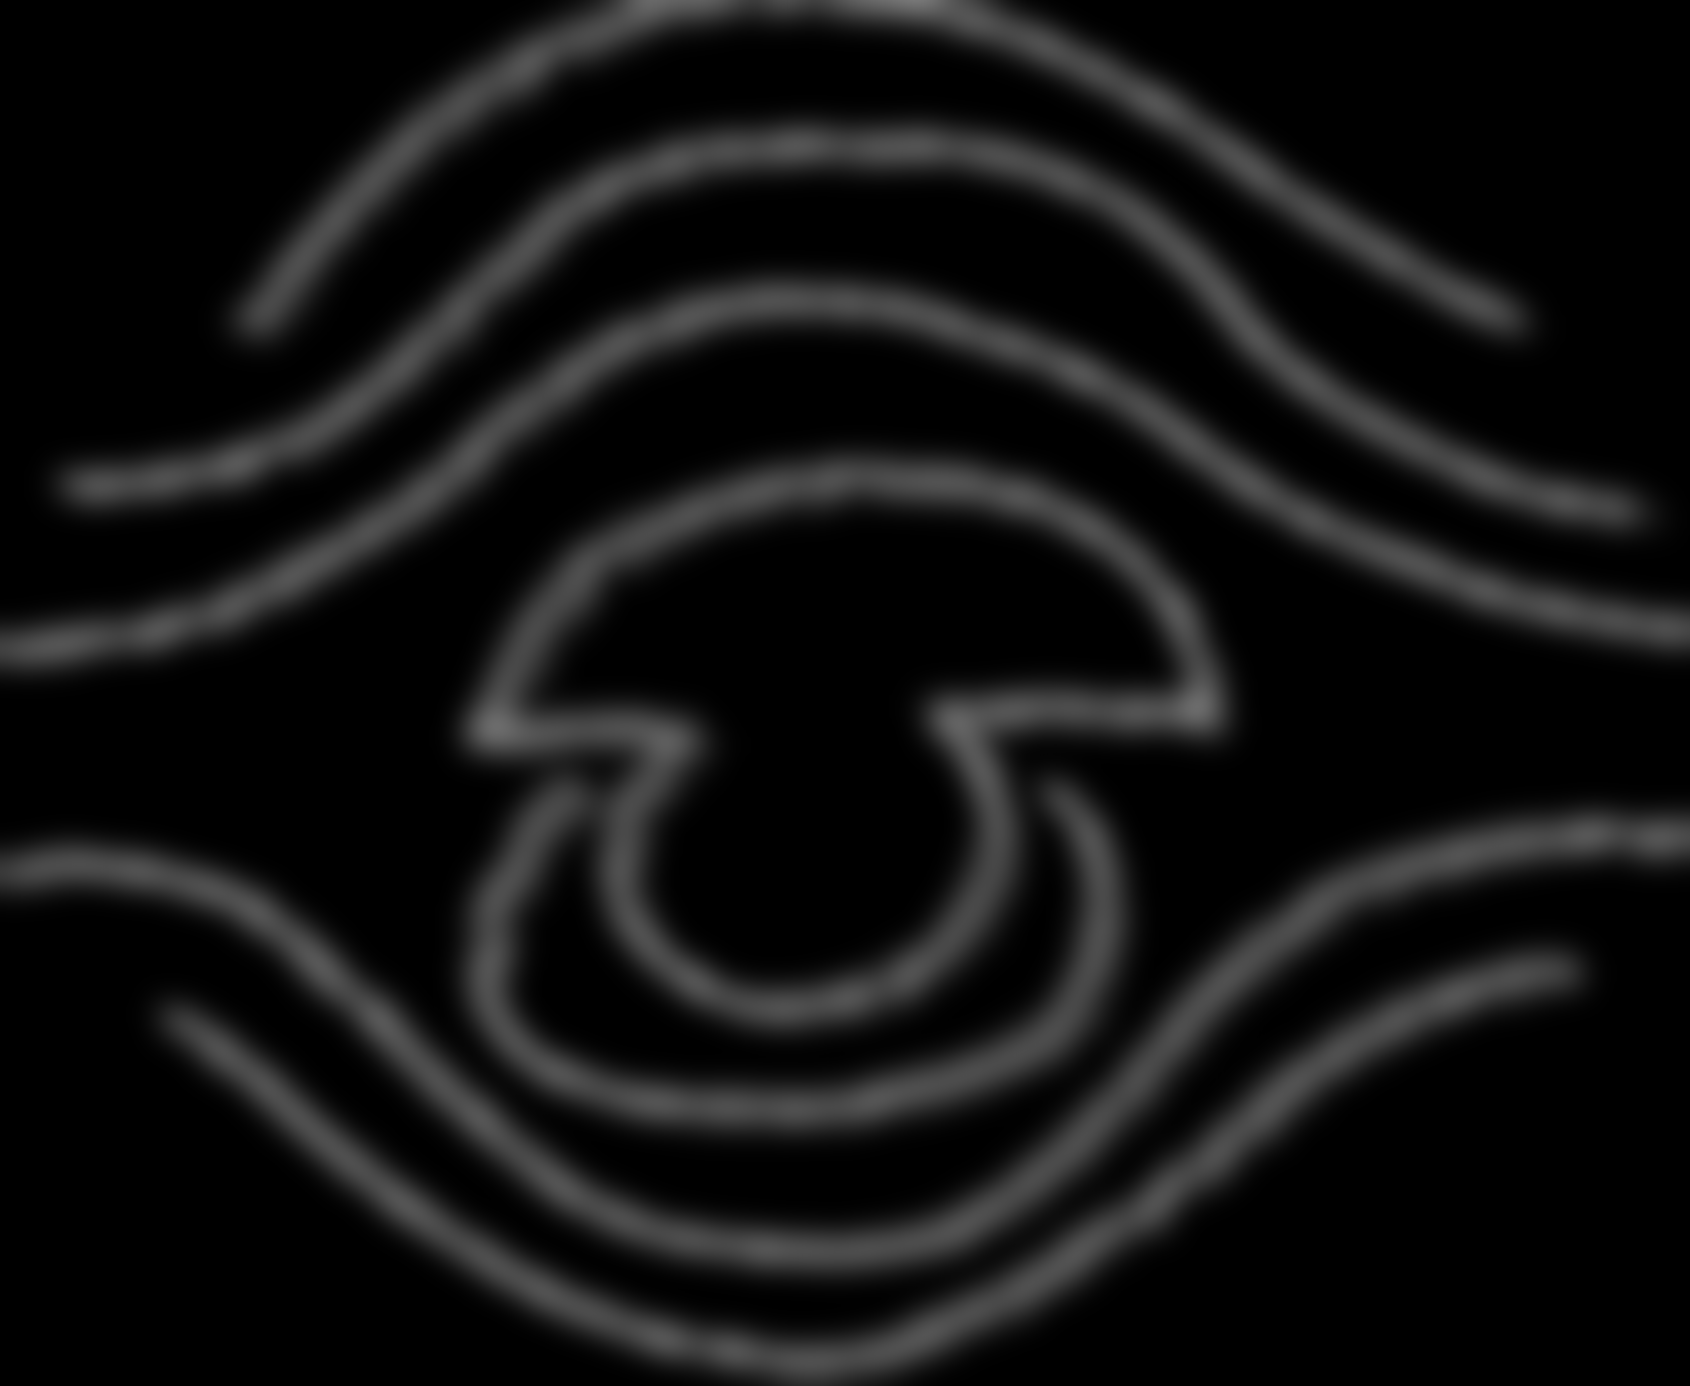Transition flow: (49, 20, 1639, 1359)
